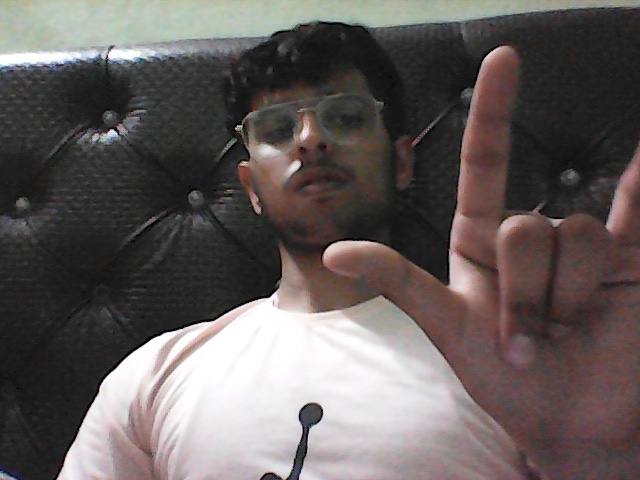iloveyou: (324, 31, 638, 480)
